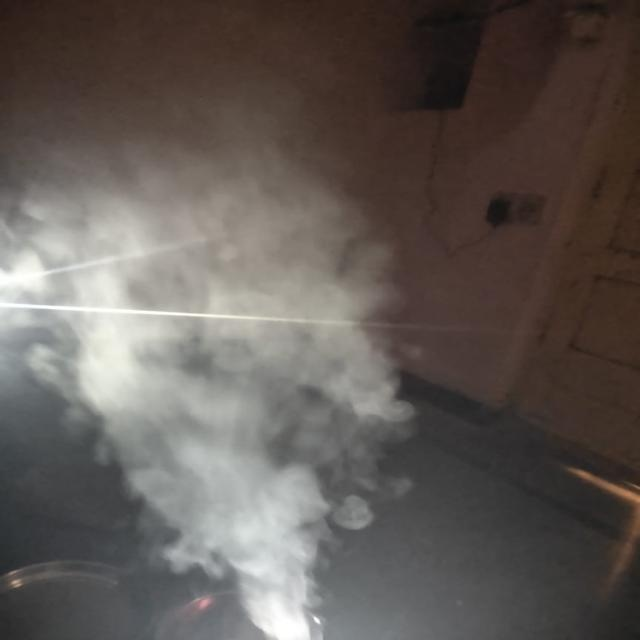smoke: (48, 181, 269, 495)
